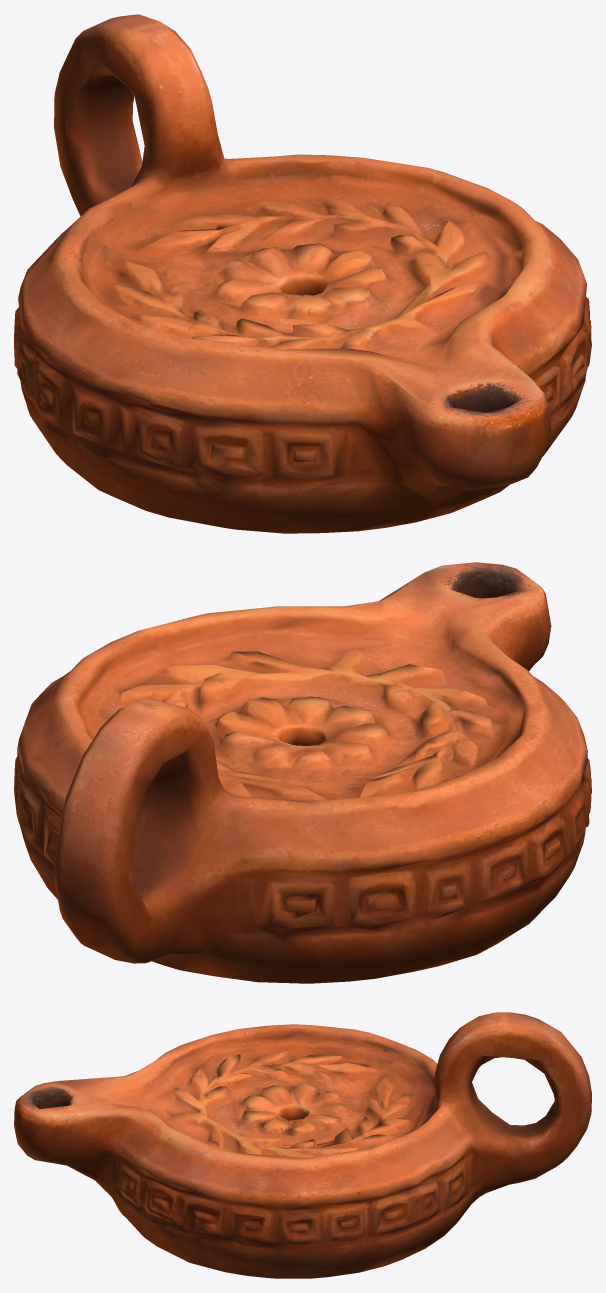
The model's file is oil-lamp.glb.
3 renders of one model, top to bottom at view 1: azimuth 30°, elevation 25°; view 2: azimuth 150°, elevation 25°; view 3: azimuth 270°, elevation 25°, orthographic. The views are drawn at different scales.
Visible parts, largest first — view 1: tripo_node_b7c3a14f-37a2-4158-a66c-efd37666e001; view 2: tripo_node_b7c3a14f-37a2-4158-a66c-efd37666e001; view 3: tripo_node_b7c3a14f-37a2-4158-a66c-efd37666e001.
Part boxes in pixels (x1,y1,x2,y2): tripo_node_b7c3a14f-37a2-4158-a66c-efd37666e001: (14, 14, 591, 533); tripo_node_b7c3a14f-37a2-4158-a66c-efd37666e001: (14, 562, 591, 983); tripo_node_b7c3a14f-37a2-4158-a66c-efd37666e001: (14, 1012, 591, 1278).
Size of the model in its own units: 0.676 by 0.371 by 0.9997.
Materials: 1 (1 with a texture image).
